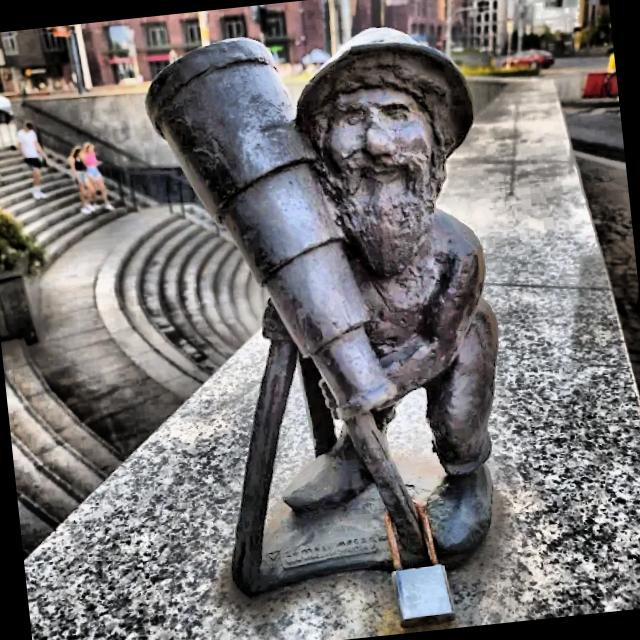Lunetyk: (144, 28, 499, 602)
